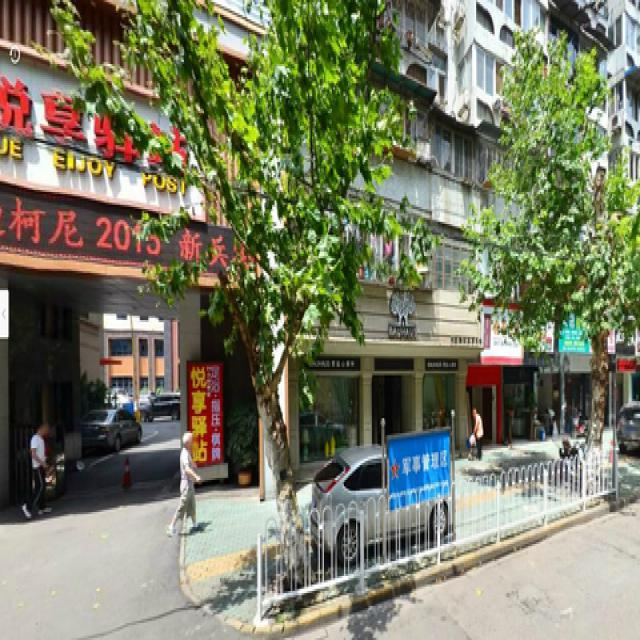meta: (116, 6, 389, 544)
